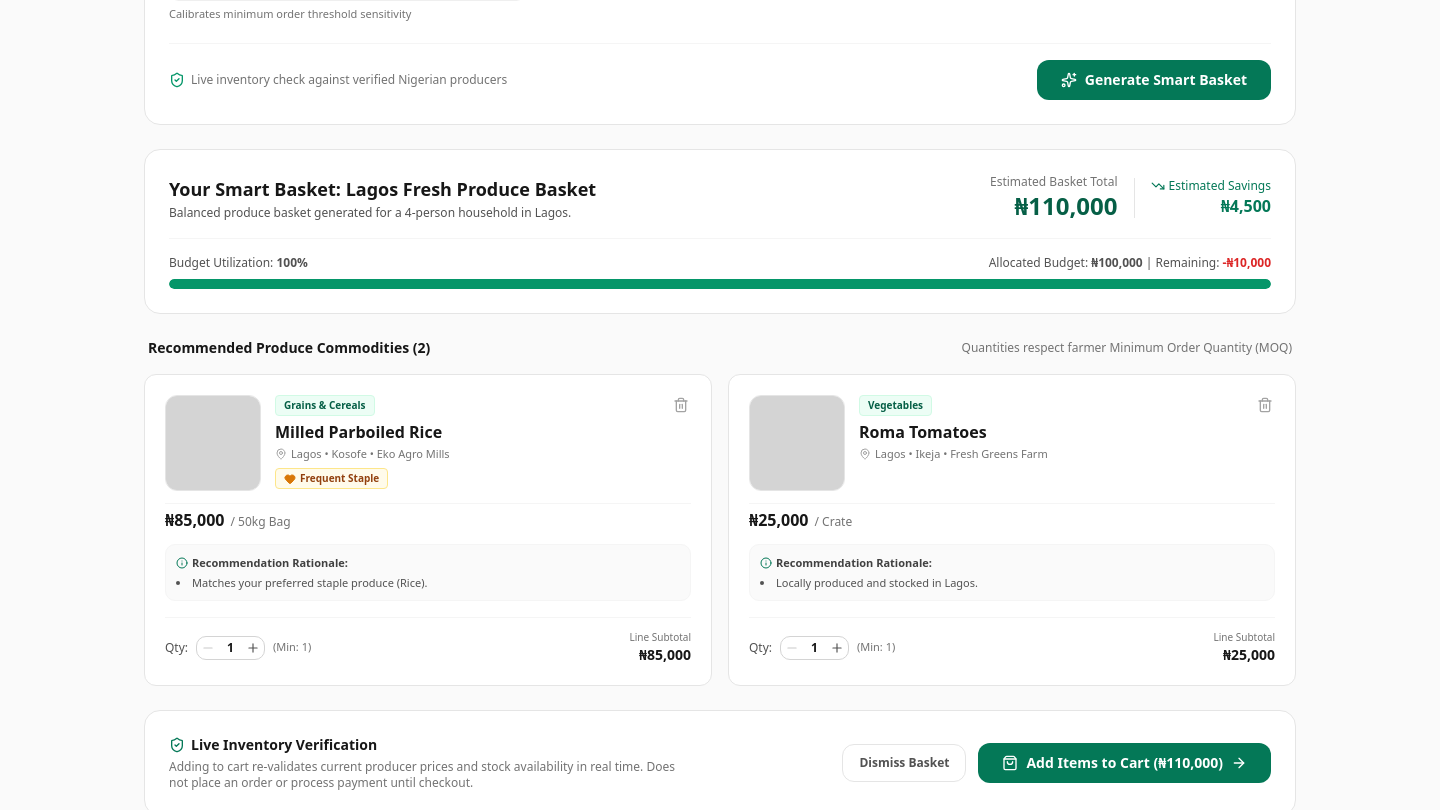
Test: SmartBasketView UI Component Suite › 3. Basket Generation & Visual Result Rendering › recalculates line subtotals and remaining budget when item quantity is modified or item removed
The image size is (1440, 810).
(page scrolled)
Check: the text "₦110,000" is shown, box [1015,188,1118,222]
# Remove tomatoes item
Step 1. Click the button titled "Remove recommendation" in the row of "Vegetables" → (1265, 405), box [1255,395,1275,415]
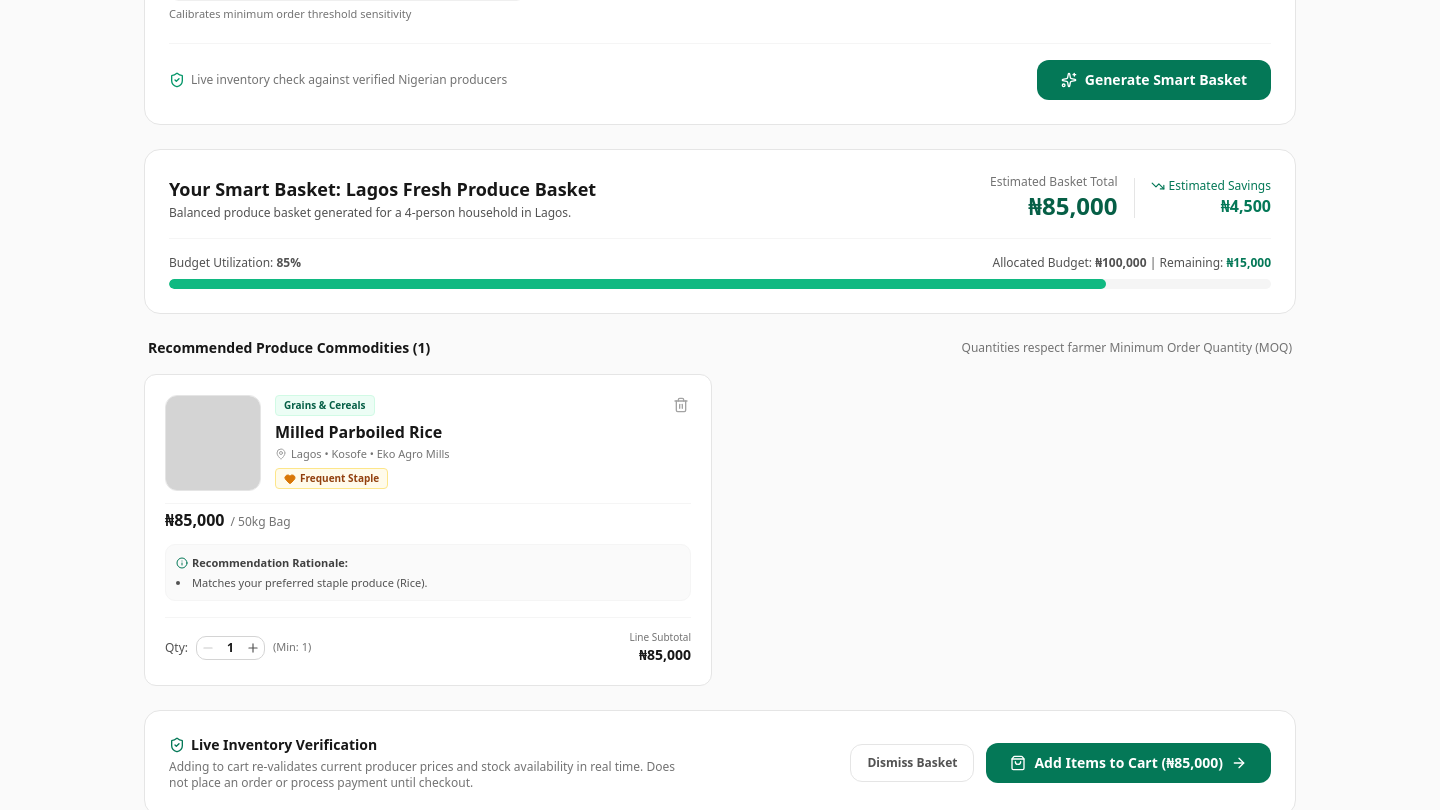
Check: the text "₦15,000" is shown, box [1226,254,1271,270]
